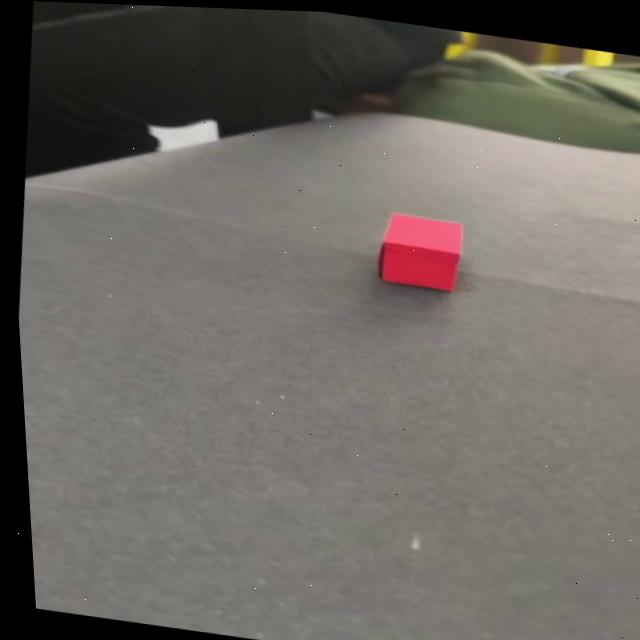red block: (371, 208, 466, 292)
